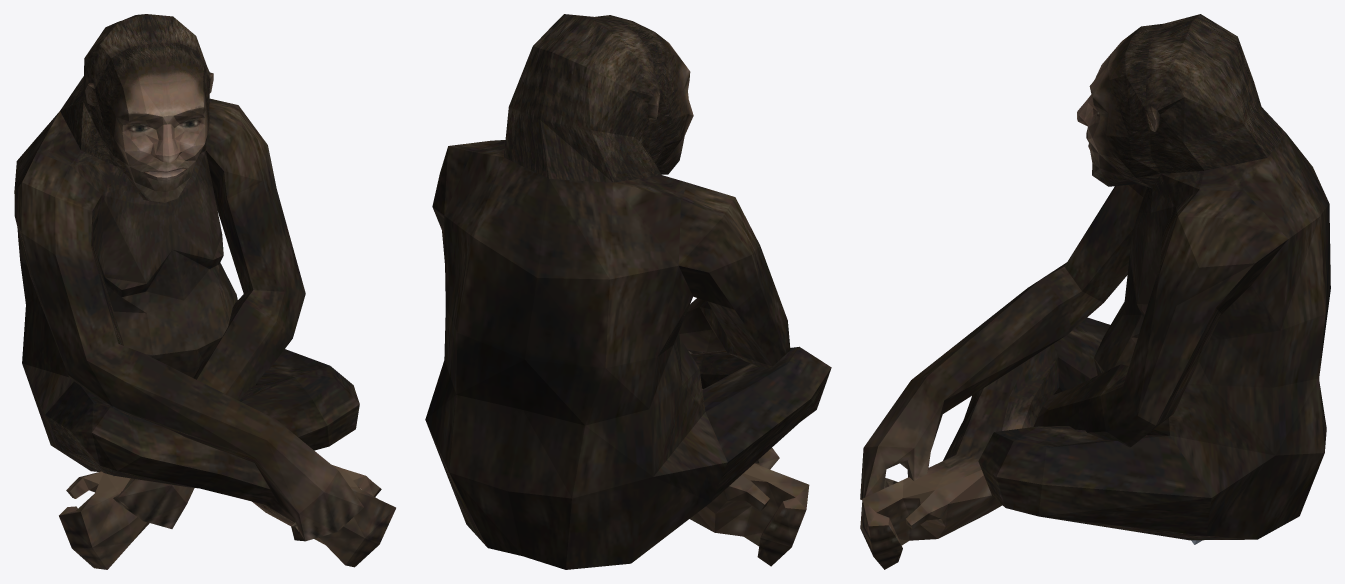
Rendered from Apeman.obj.
The picture shows the model from 3 angles, left to right: view 1: azimuth 30°, elevation 25°; view 2: azimuth 150°, elevation 25°; view 3: azimuth 270°, elevation 25°; orthographic projection. The views are drawn at different scales.
Visible parts, largest first — view 1: default_default1; view 2: default_default1; view 3: default_default1.
Part boxes in pixels (box(x1,y1,x2,y2)): default_default1: box(14, 14, 395, 569); default_default1: box(425, 14, 831, 569); default_default1: box(860, 14, 1330, 569).
Size of the model in its own units: 21.23 by 35.78 by 28.46.
Materials: 2 (1 with a texture image).
